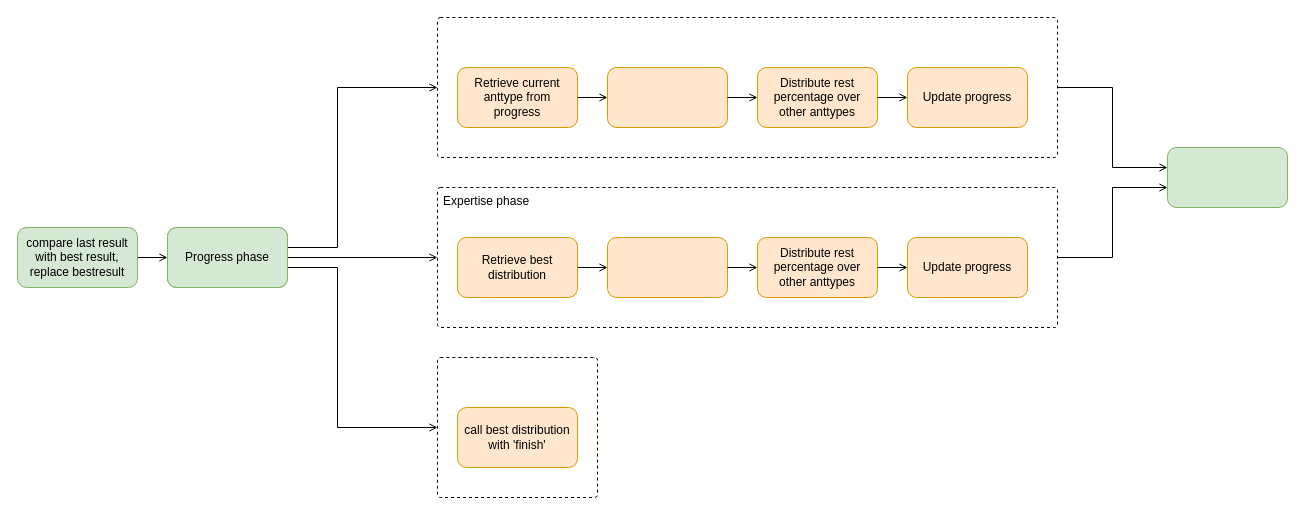
Some shapes in this 1305 by 515 pixel diagram are drawn without their labels. The box of each missing label's shape, as (x1, y1, x2, y2) in pixels:
calculate adjustment: (606, 236, 728, 298)
Calculate nextpercentage: (606, 66, 728, 128)
Finalize phase: (436, 356, 598, 498)
Initial phase: (436, 16, 1058, 158)
Return distribution: (1166, 146, 1288, 208)
